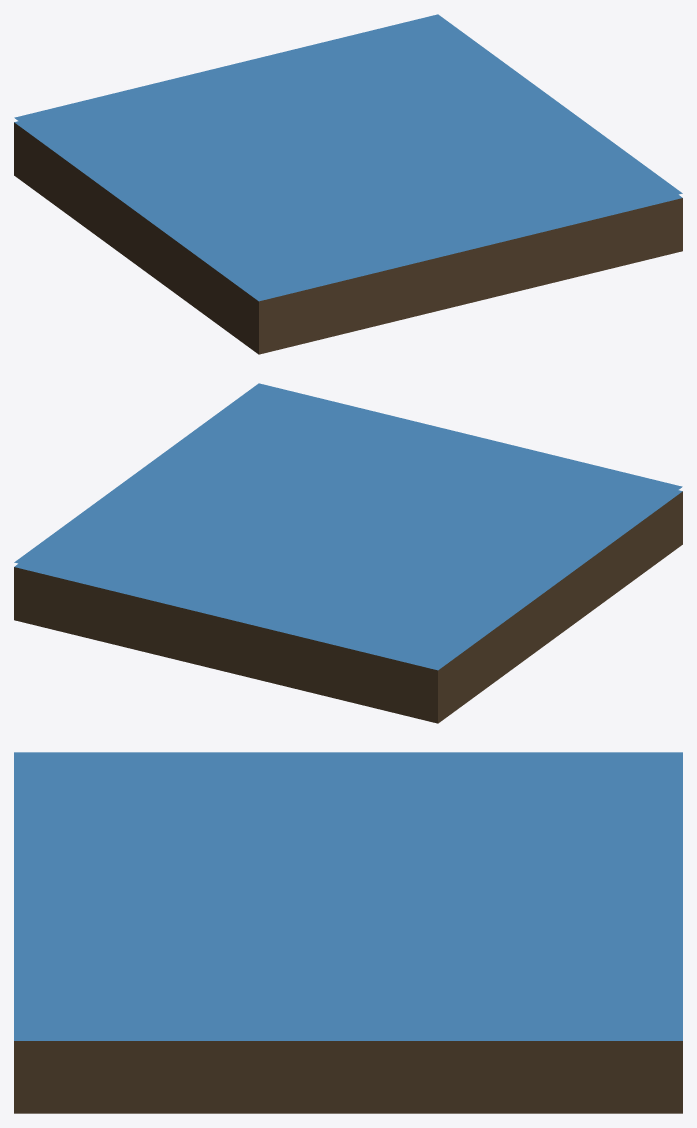
Rendered from water_03.glb.
The picture shows the model from 3 angles, top to bottom: view 1: azimuth 30°, elevation 25°; view 2: azimuth 150°, elevation 25°; view 3: azimuth 270°, elevation 25°; orthographic projection. The views are drawn at different scales.
Visible parts, largest first — view 1: Grid; view 2: Grid; view 3: Grid.
Boxes of the visible parts, left/top/right/bottom form: Grid: left=14, top=14, right=682, bottom=354; Grid: left=14, top=383, right=682, bottom=723; Grid: left=14, top=752, right=682, bottom=1113.
Size of the model in its own units: 1 by 0.13 by 1.
